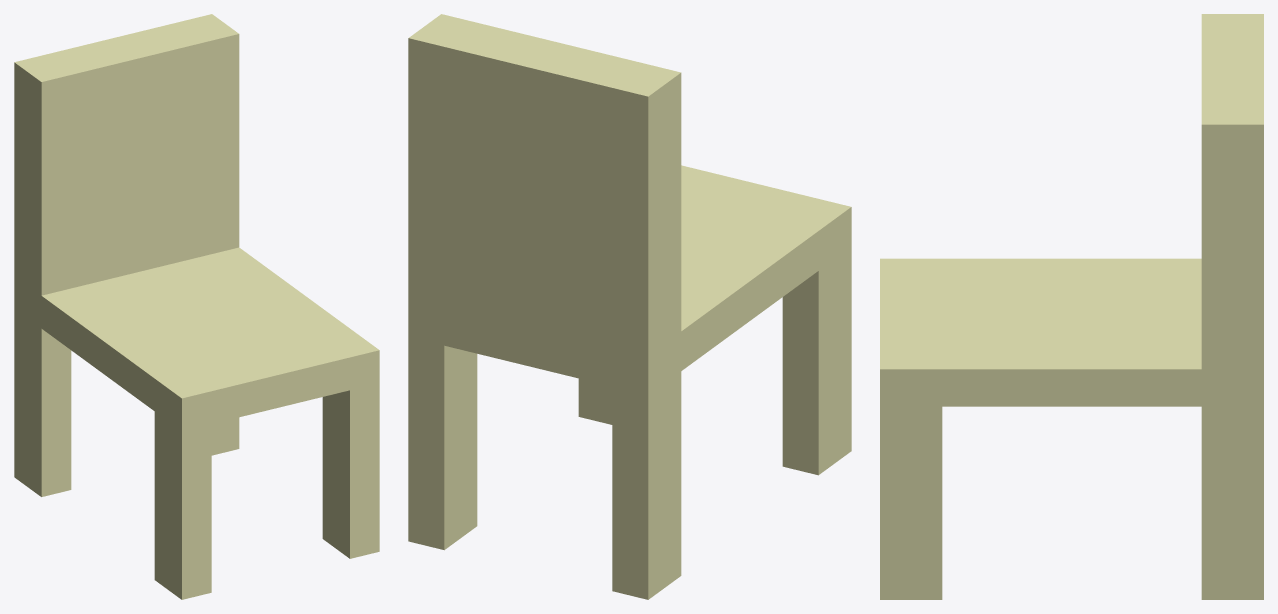
File: char.fbx
3 views of the same model, side by side, from view 1: azimuth 30°, elevation 25°; view 2: azimuth 150°, elevation 25°; view 3: azimuth 270°, elevation 25° (orthographic). The views are drawn at different scales.
Visible parts, largest first — view 1: table.001; view 2: table.001; view 3: table.001.
Boxes of the visible parts, box(x1,y1,x2,y2) form: table.001: box(14, 14, 379, 599); table.001: box(408, 14, 851, 599); table.001: box(880, 14, 1263, 599).
Size of the model in its own units: 126 by 253 by 185.
